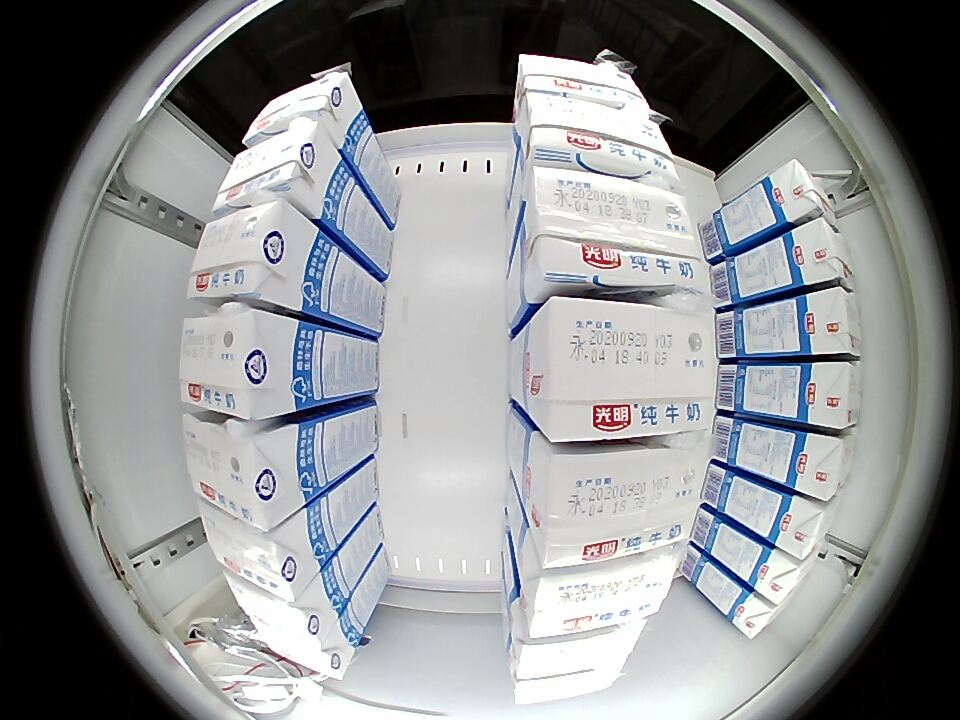niunai: (522, 295, 716, 441), (520, 168, 707, 299), (525, 437, 704, 569), (520, 546, 682, 641), (521, 92, 677, 185), (182, 414, 302, 532), (187, 199, 312, 309), (179, 305, 298, 420), (215, 120, 332, 217), (200, 504, 314, 602), (244, 70, 359, 147), (227, 573, 340, 650), (514, 53, 647, 117), (508, 621, 642, 680), (254, 623, 355, 681), (787, 219, 857, 294), (766, 160, 839, 231), (788, 430, 856, 502), (771, 490, 839, 560), (796, 287, 861, 359), (512, 665, 624, 704), (798, 360, 861, 429), (751, 544, 817, 605), (729, 582, 793, 640)
